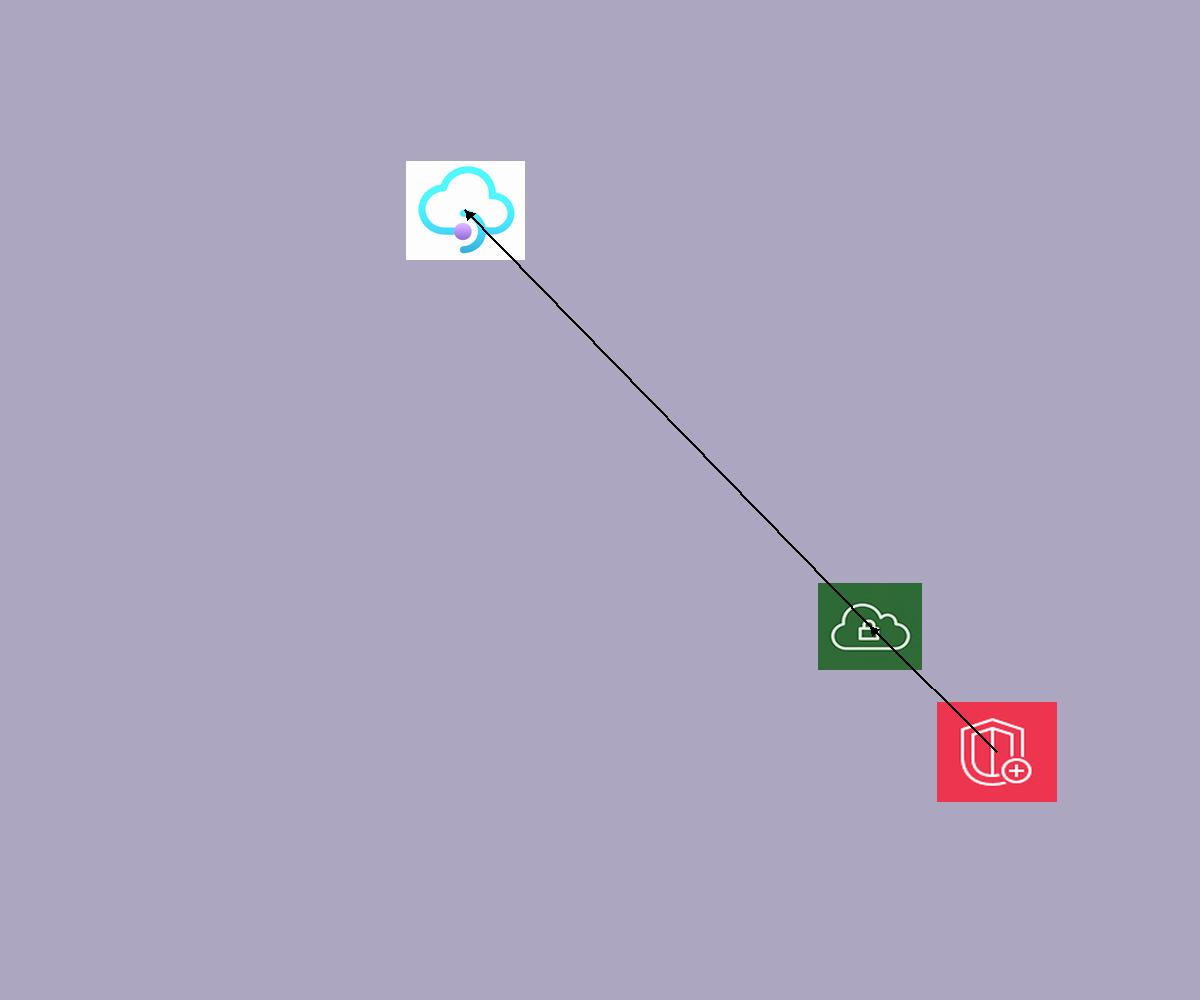AWS-Private_vpc: (818, 583, 922, 670)
AWS-Shield: (937, 702, 1057, 802)
Azure_api_gateway: (406, 161, 525, 260)
